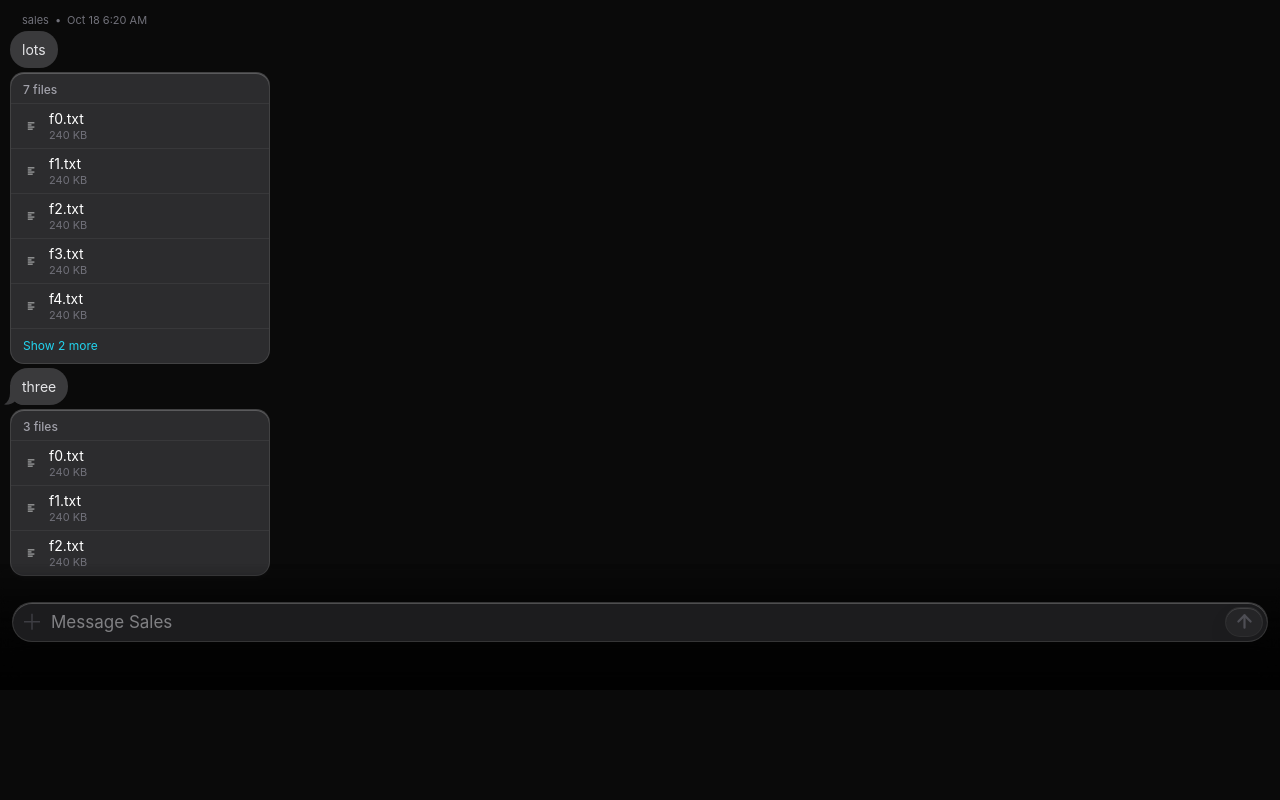
chips › 3+ files: one list card, five rows, the rest behind Show N more
Check: the text with test id "thread-files-count" reads "7 files", box [23,82,57,96]
Click the button with test id "thread-files-more" at (140, 345), box [11,328,269,362]
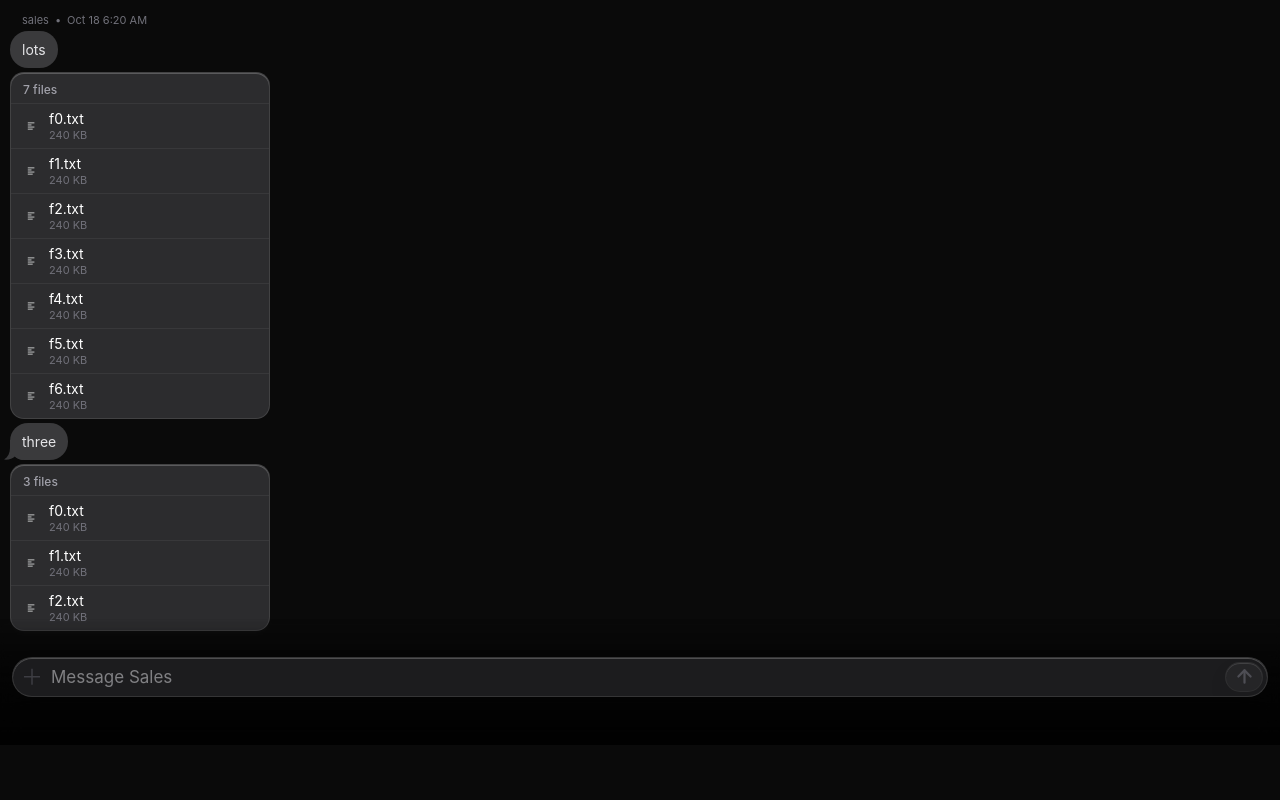
Check: the text with test id "thread-files-count" reads "3 files", box [23,474,58,488]
Check: the button with test id "thread-files-more" is gone
